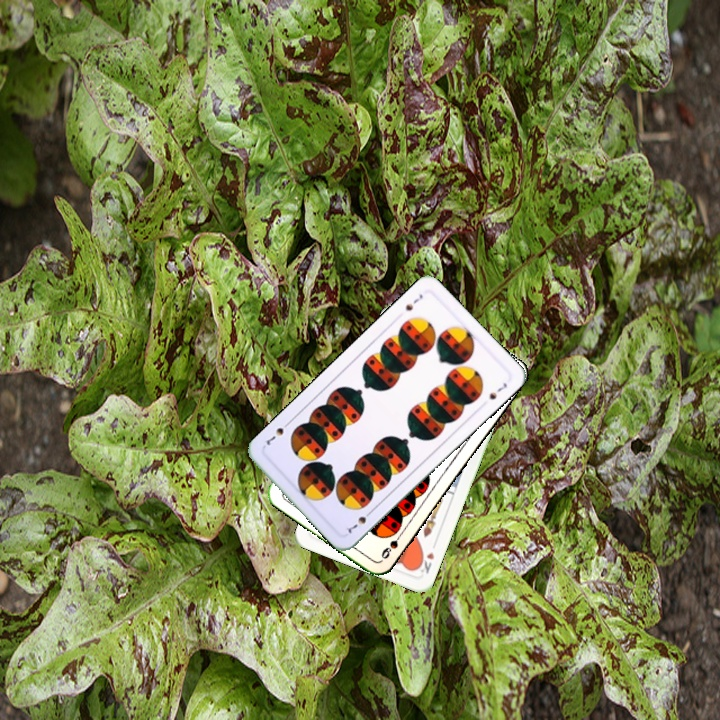HK: (413, 548, 437, 576)
S7: (344, 506, 376, 536), (401, 290, 425, 313)
S9: (377, 525, 406, 562)
